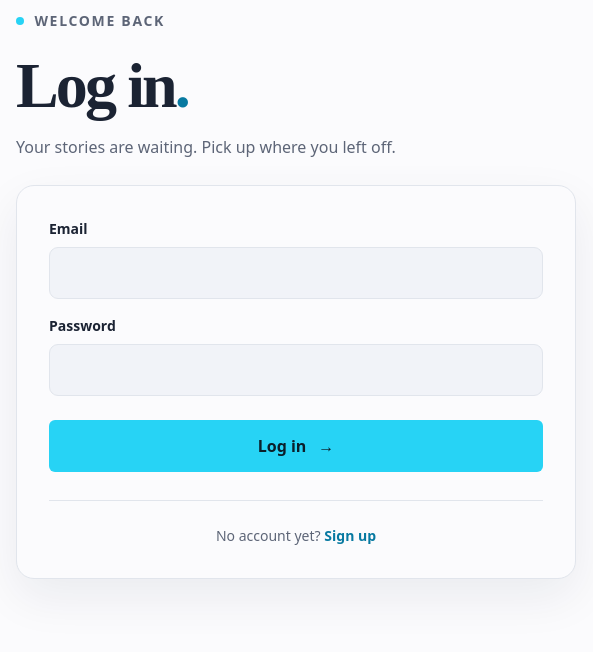
Test: LoginPage › shows a generic message when the credentials are rejected
Type "alice@example.com" into the field labelled "Email".
click(296, 273); type("alice@example.com")  # box [49,247,543,299]
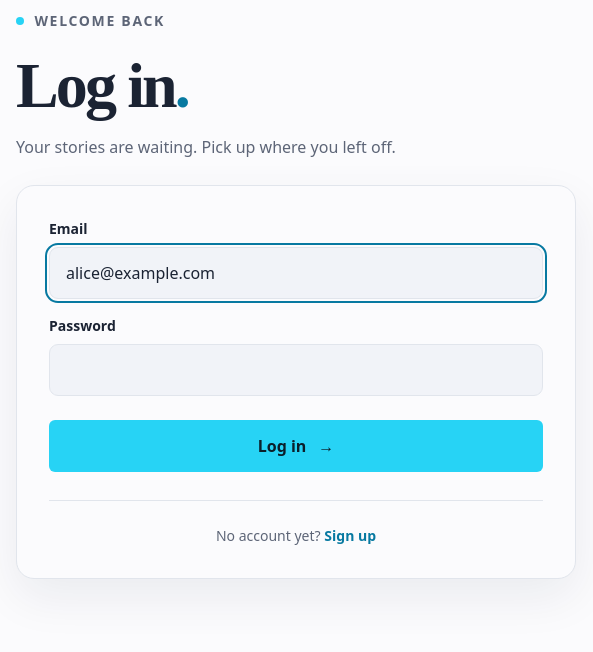
Type "wrong-password" into the password field labelled "Password".
click(296, 370); type("wrong-password")  # box [49,344,543,396]
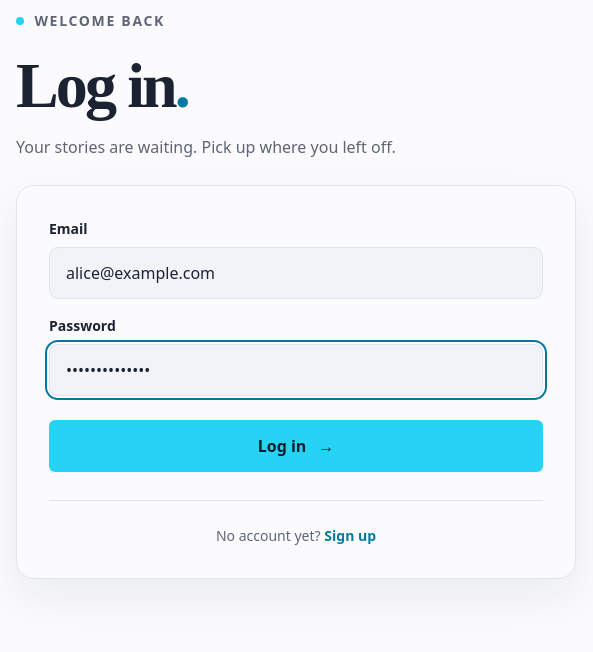
Click the button "Log in →".
click(296, 446)  # box [49,420,543,472]
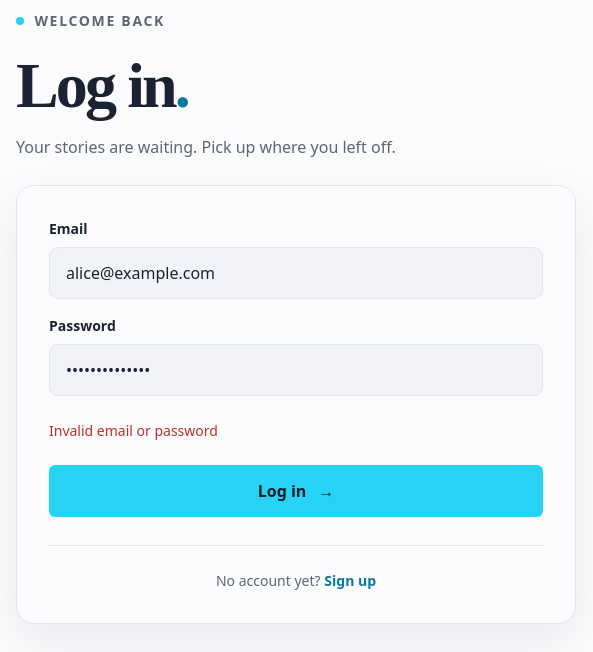
expect the text "Invalid email or password" is shown: met, box [49,421,218,440]
